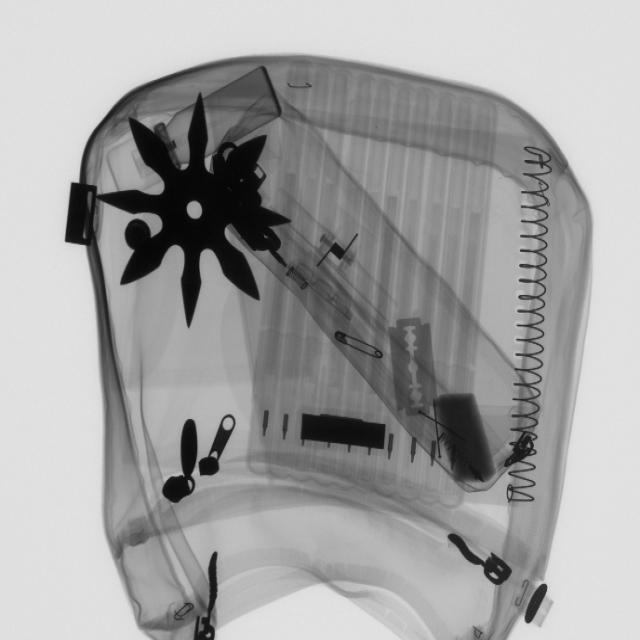BLADE: (383, 312, 442, 438)
SHURIKEN: (102, 91, 289, 328)
